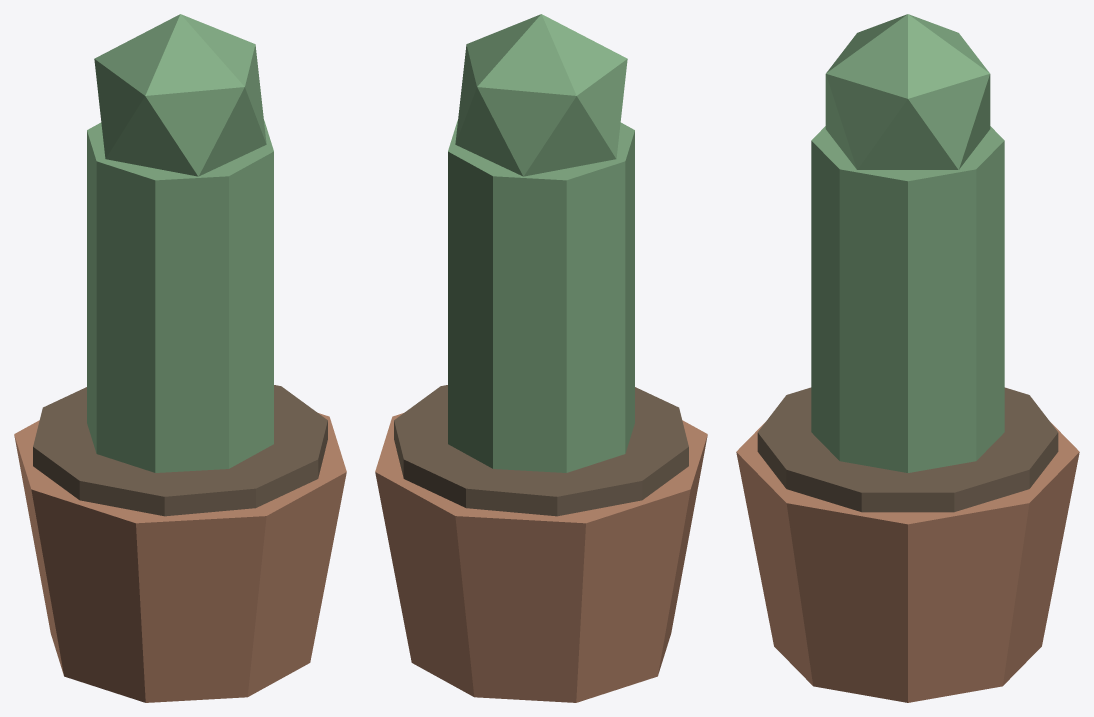
Rendered from pla_mini_cacto.glb.
3 views of the same model, side by side, from view 1: azimuth 30°, elevation 25°; view 2: azimuth 150°, elevation 25°; view 3: azimuth 270°, elevation 25° (orthographic).
Parts seen in each view (by area): view 1: PLA_MINI_CACTO_v01; view 2: PLA_MINI_CACTO_v01; view 3: PLA_MINI_CACTO_v01.
Boxes of the visible parts, bbox=[...] form: PLA_MINI_CACTO_v01: bbox=[14, 14, 346, 702]; PLA_MINI_CACTO_v01: bbox=[375, 14, 707, 702]; PLA_MINI_CACTO_v01: bbox=[736, 14, 1079, 702].
Size of the model in its own units: 0.16 by 0.325 by 0.16.
